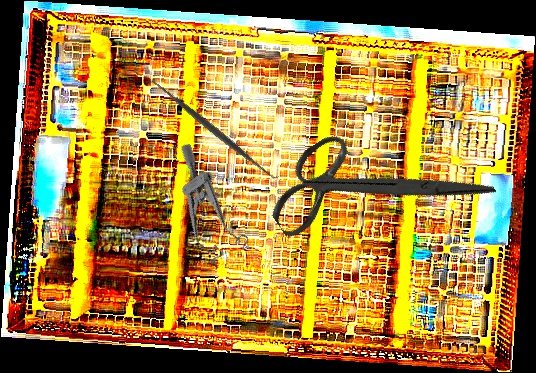Iris Scissors: (252, 75, 497, 302)
Spatula Surgical: (142, 70, 282, 188)
Speculum: (144, 140, 262, 275)
